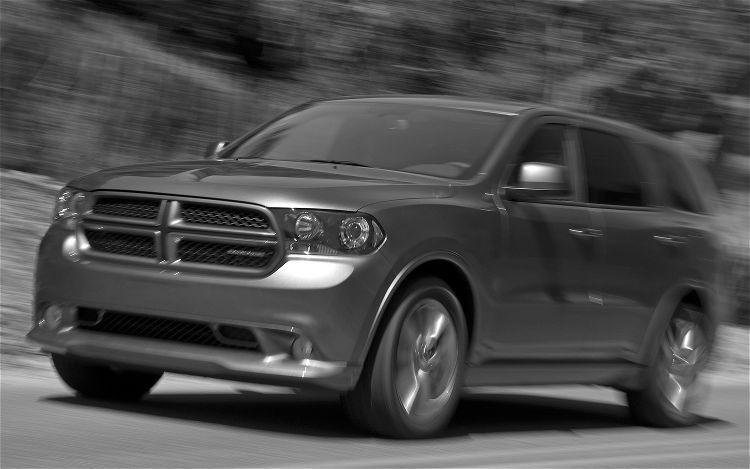car: (19, 89, 730, 444)
